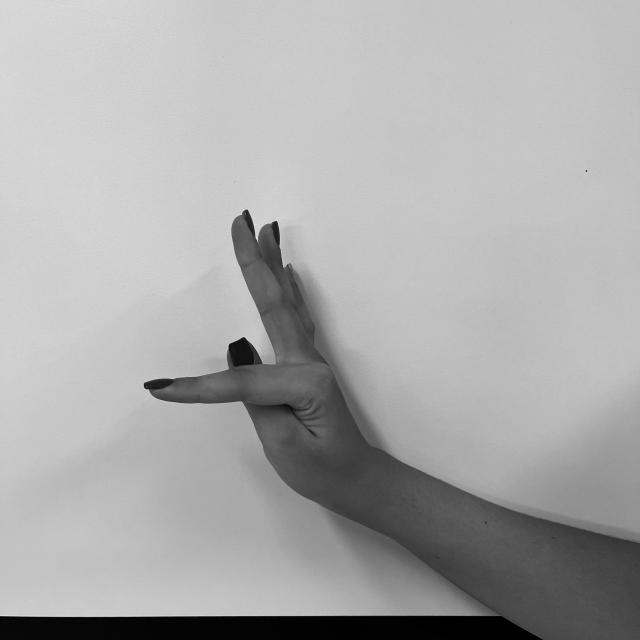Letra T: (136, 204, 372, 502)
